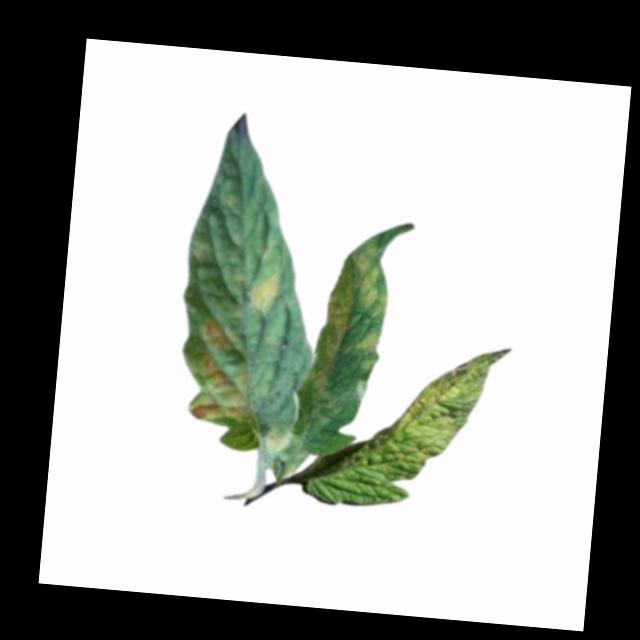Leaf_Mold: (379, 338, 513, 476), (309, 229, 392, 398), (180, 311, 262, 424), (244, 267, 284, 316)
